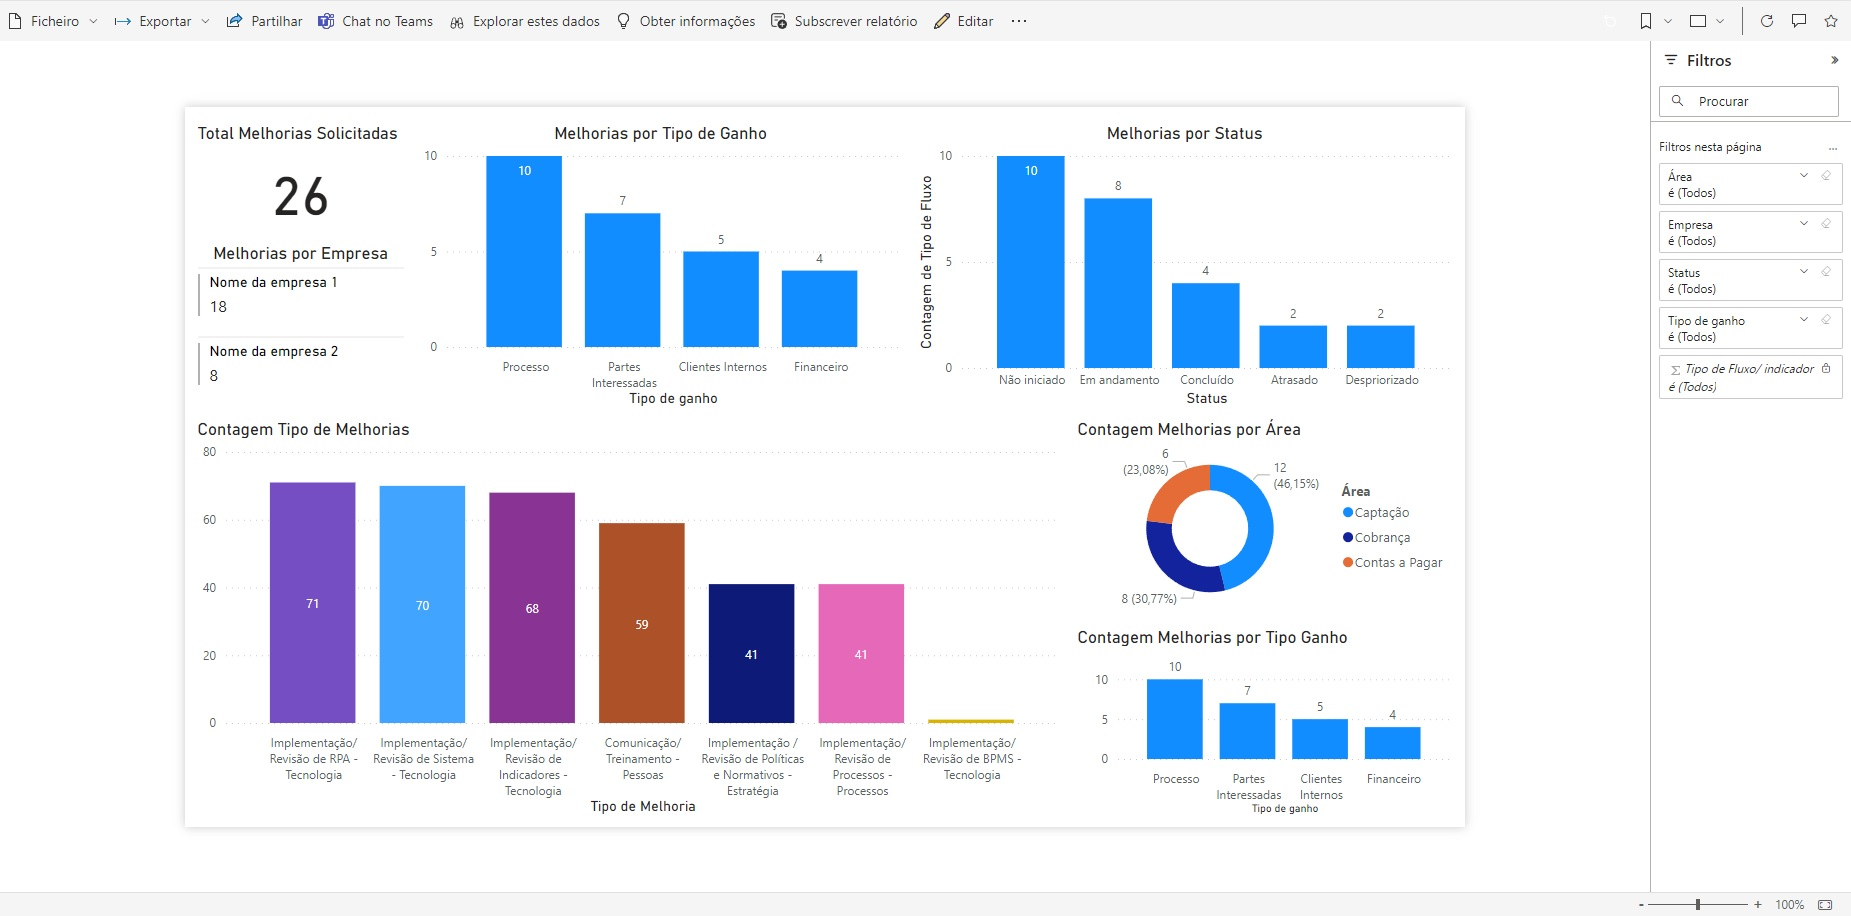

What the dashboard file says about the page in this screenshot:
{"tool":"powerbi","page":{"name":"Página 1","canvas":[1280,720],"ordinal":0},"visuals":[{"type":"card","title":"Total Melhorias Solicitadas","fields":{"Values":["CountNonNull(Tabela.Tipo de Fluxo/ indicador)"]},"box":[8,16,216,112],"z":0},{"type":"multiRowCard","title":"Melhorias por Empresa","fields":{"Values":["Tabela.Tipo de Fluxo/ indicador","Tabela.Empresa"]},"box":[8,136,216,168],"z":1000},{"type":"columnChart","title":"Melhorias por Status","fields":{"Y":["CountNonNull(Tabela.Tipo de Fluxo/ indicador)"],"Category":["Tabela.Status"]},"box":[728,16,544,288],"z":2000},{"type":"columnChart","title":"Melhorias por Tipo de Ganho","fields":{"Y":["CountNonNull(Tabela.Tipo de Fluxo/ indicador)"],"Category":["Tabela.Tipo de ganho"]},"box":[232,16,488,288],"z":3000},{"type":"clusteredColumnChart","title":"Contagem Melhorias por Tipo Ganho","fields":{"Category":["Tabela.Tipo de ganho"],"Y":["CountNonNull(Tabela.Tipo de Fluxo/ indicador)"]},"box":[888,520,384,192],"z":4000},{"type":"donutChart","title":"Contagem Melhorias por Área","fields":{"Category":["Tabela.Área"],"Y":["CountNonNull(Tabela.Tipo de Fluxo/ indicador)"]},"box":[888,312,384,200],"z":5000},{"type":"columnChart","title":"Contagem Tipo de Melhorias","fields":{"Y":["Sum(Tabela.ID da OM)"],"Series":["Tabela.Tipo de Melhoria"],"Category":["Tabela.Tipo de Melhoria"]},"box":[8,312,872,400],"z":6000}]}

Visuals, with their boxes on the page's 1280x720 design canvas (x1, y1, x2, y2). These are canvas units, not pixel positions in the 1851x916 screenshot, which may show the page scaled, cropped or inside an application window:
"Total Melhorias Solicitadas" card: detection(8, 16, 224, 128)
"Melhorias por Empresa" multiRowCard: detection(8, 136, 224, 304)
"Melhorias por Status" columnChart: detection(728, 16, 1272, 304)
"Melhorias por Tipo de Ganho" columnChart: detection(232, 16, 720, 304)
"Contagem Melhorias por Tipo Ganho" clusteredColumnChart: detection(888, 520, 1272, 712)
"Contagem Melhorias por Área" donutChart: detection(888, 312, 1272, 512)
"Contagem Tipo de Melhorias" columnChart: detection(8, 312, 880, 712)
